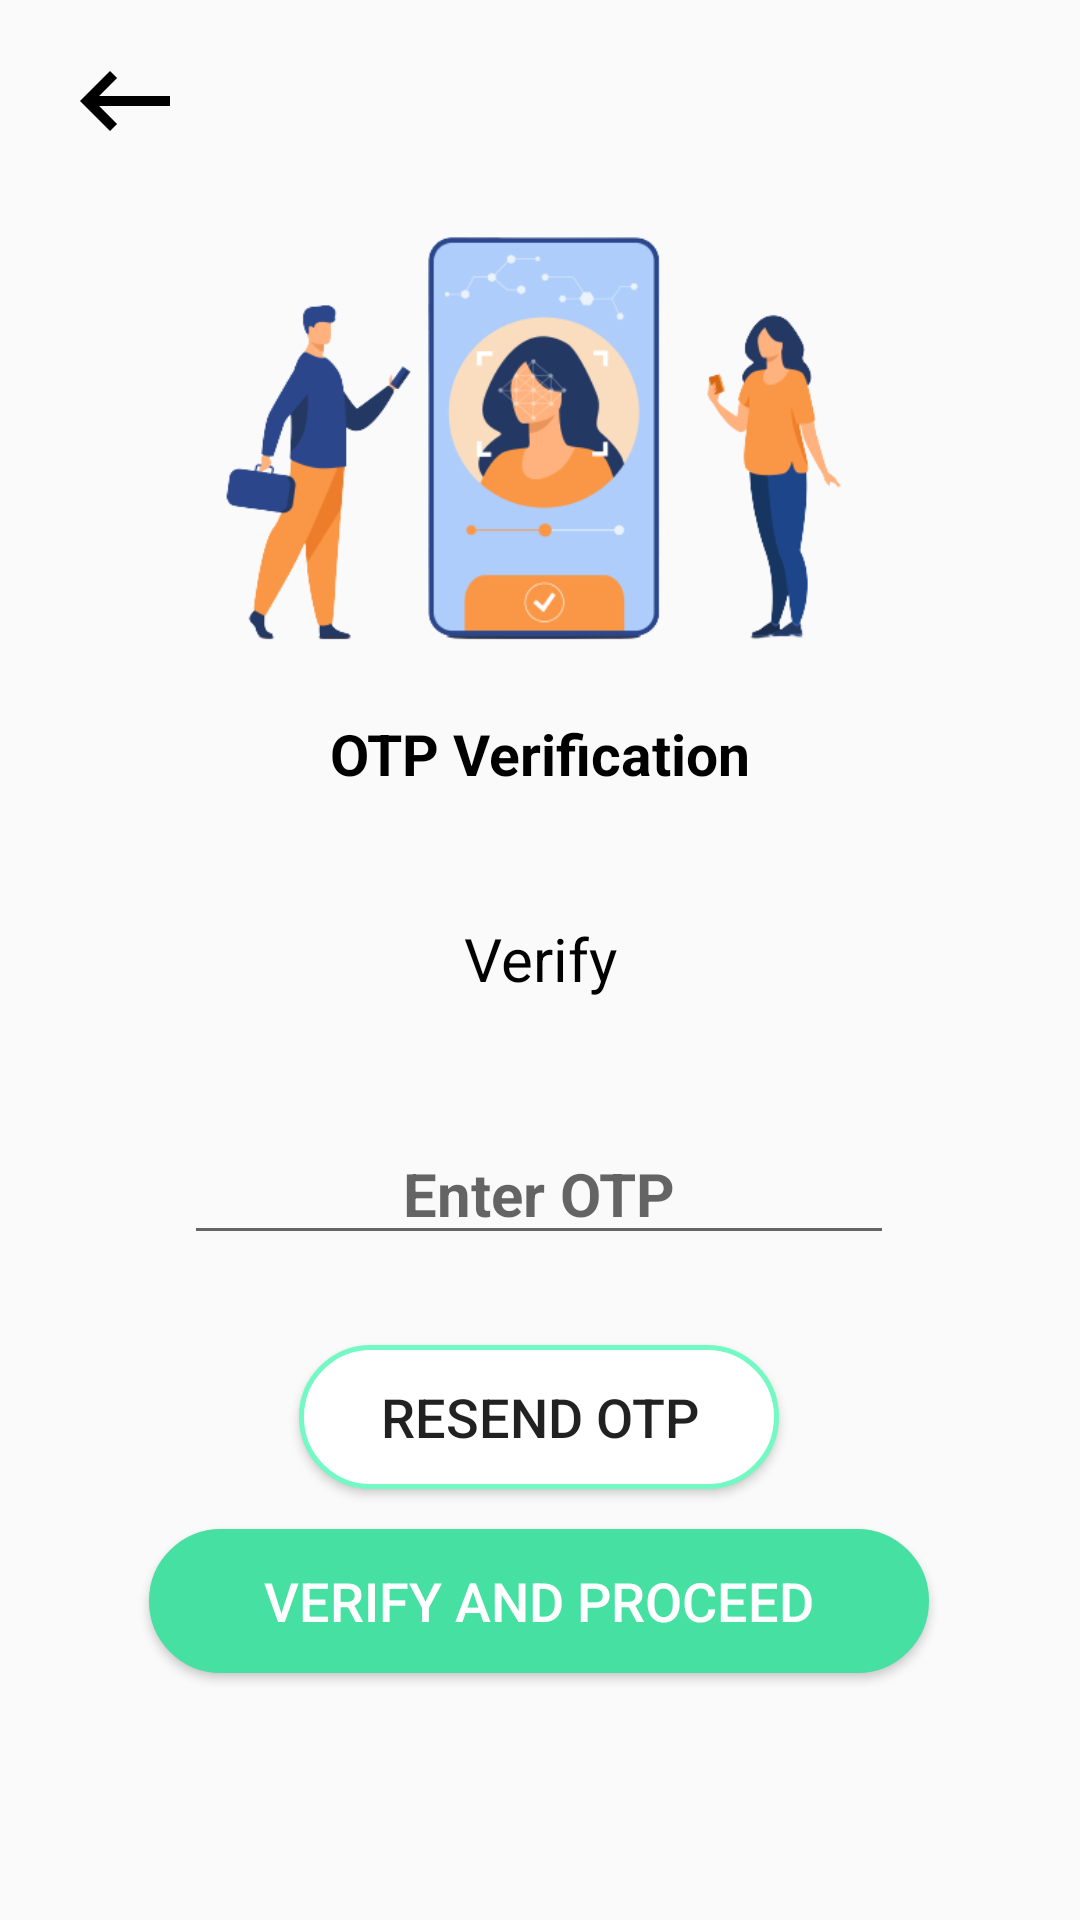

Icon click points for this 1080 x 1920 phone screenshot, format point (x, y):
backbtn: point (125, 101)
